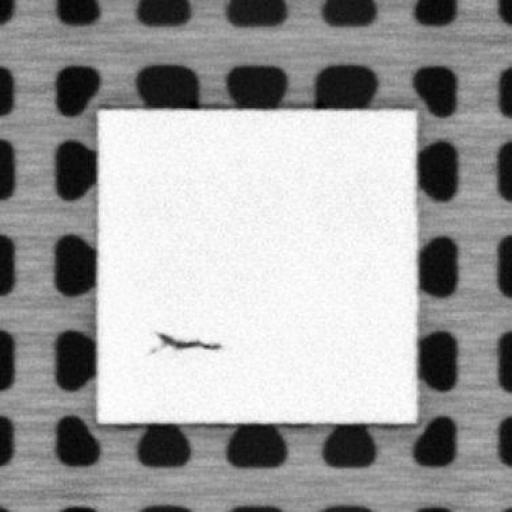DIE_INK: (154, 328, 221, 349)
